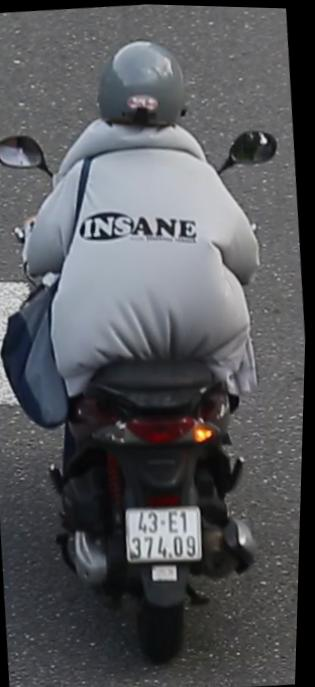LP: (122, 494, 212, 569)
helmet: (93, 30, 197, 150)
